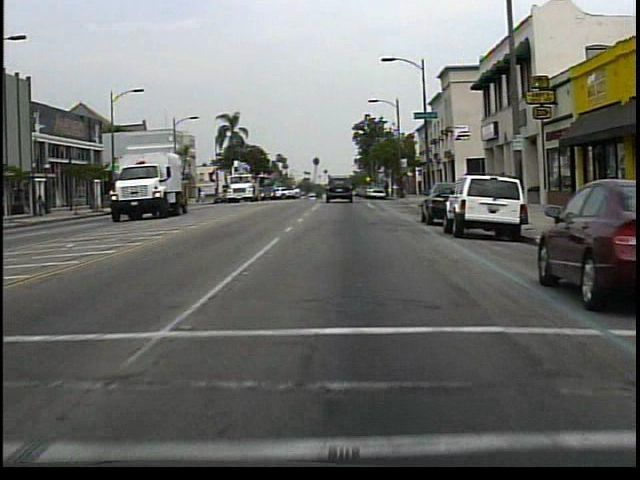person: (39, 192, 49, 218)
